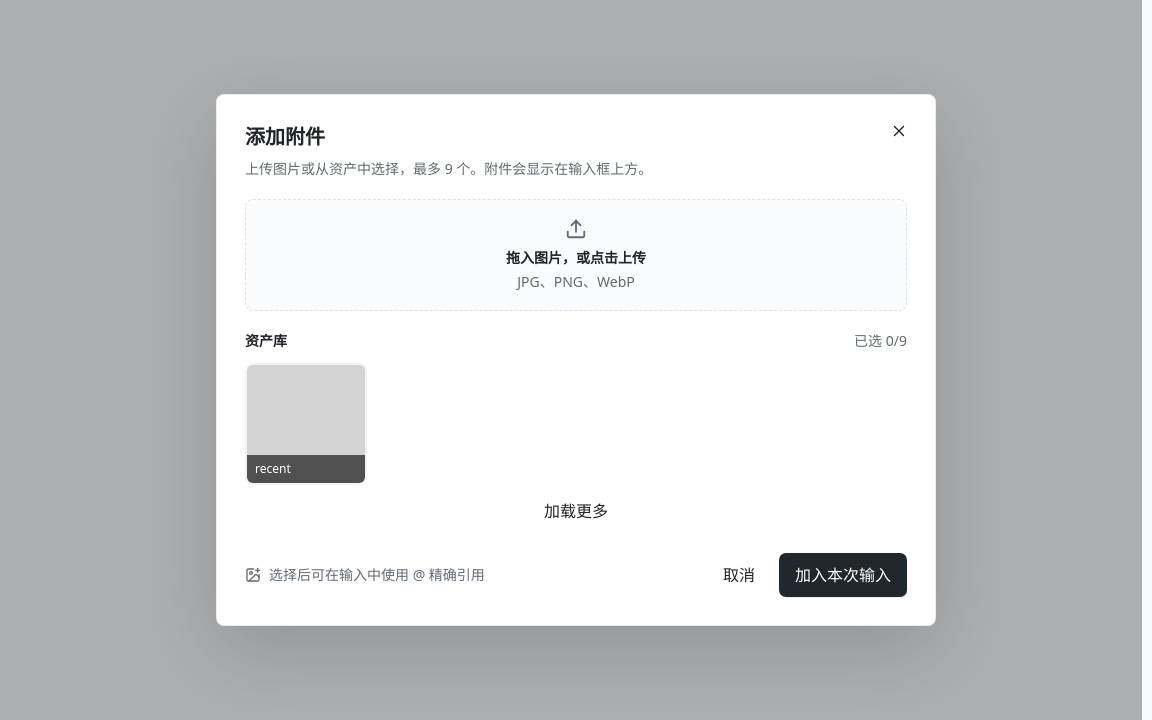
Test: AttachmentPickerDialog › keeps the cursor available after a failed page load so it can be retried
Click the button "加载更多" at x=576, y=511, box [532,493,620,529]
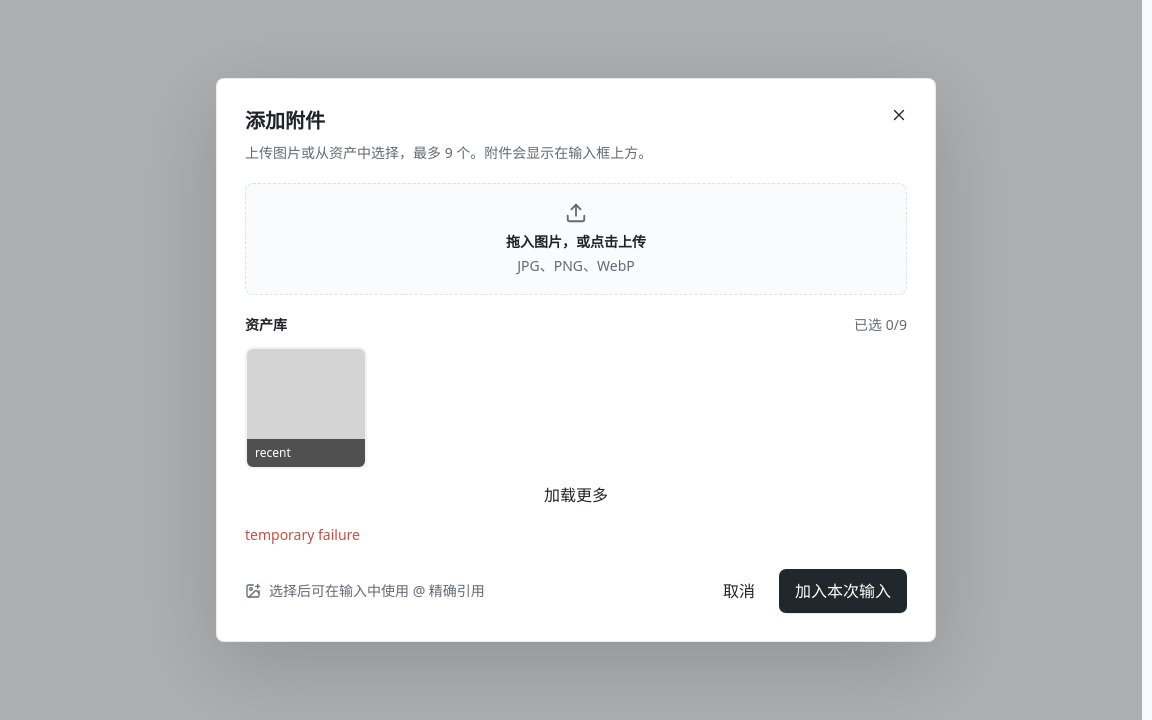
Expected: the text "temporary failure" is shown, [245,525,360,544]
Click the button "加载更多" at x=576, y=495, box [532,477,620,513]
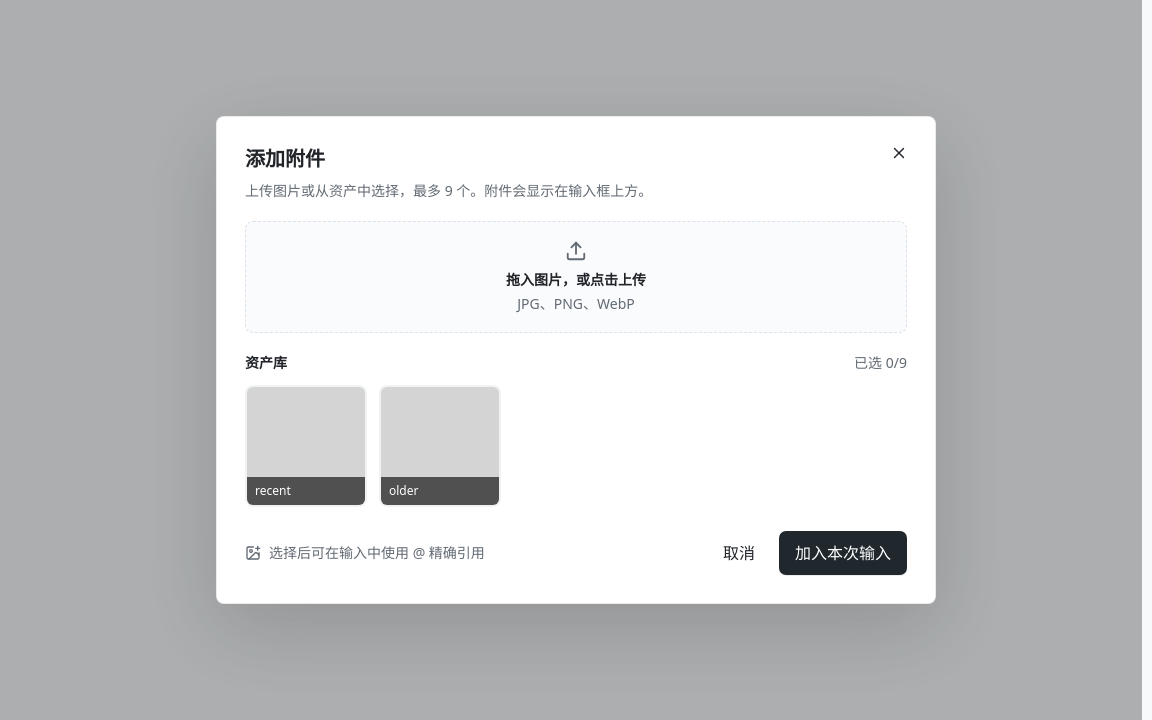
Expected: the text "older" is shown, [381,477,499,505]
